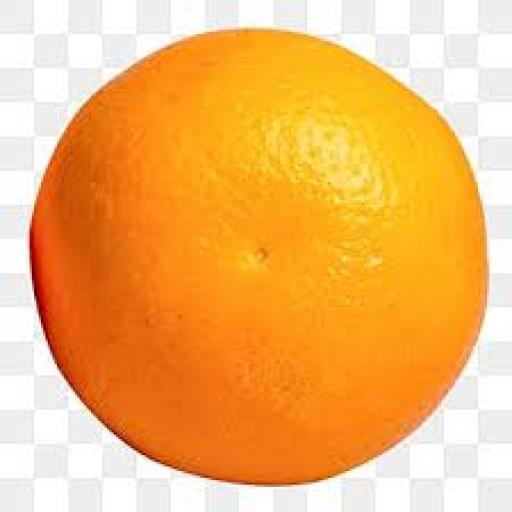orange: (32, 30, 486, 484)
